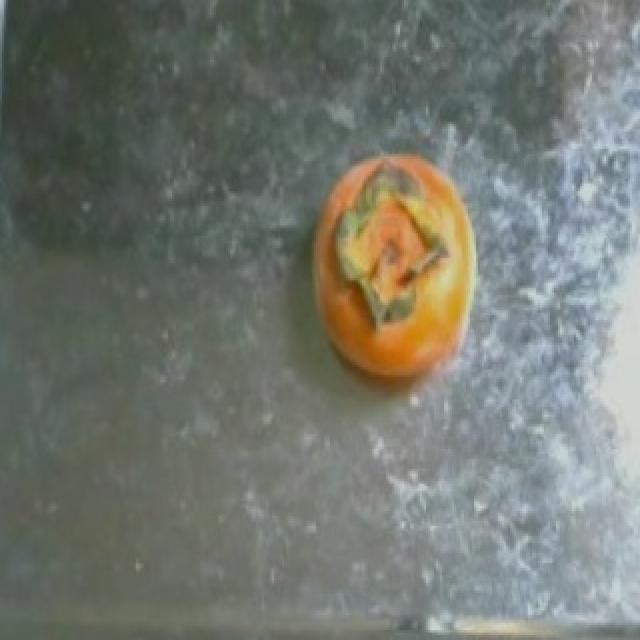Fruit: (284, 129, 502, 429)
